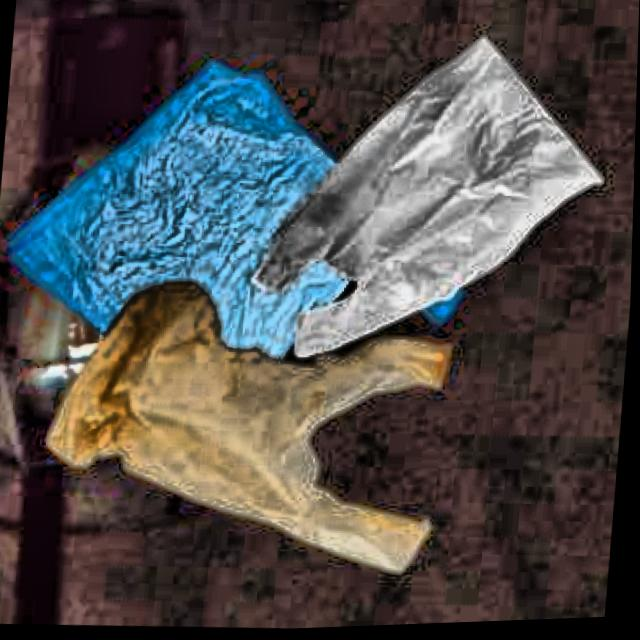Plastic: (0, 44, 497, 433), (33, 276, 484, 604), (258, 19, 623, 384)
